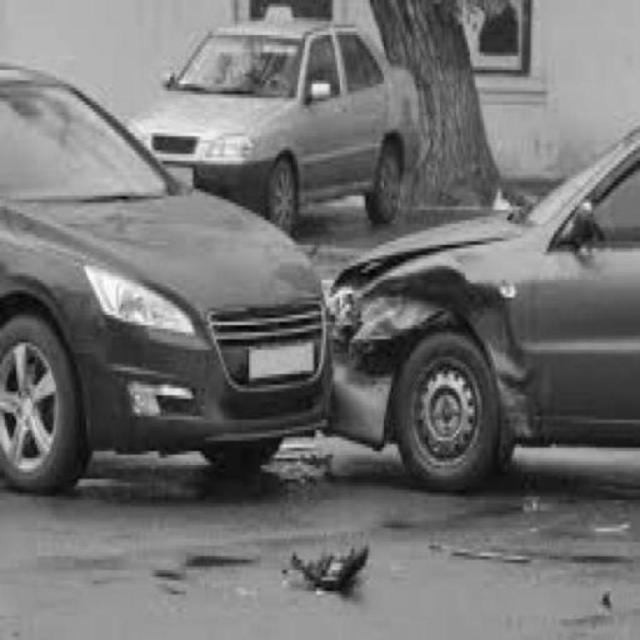accident: (1, 60, 639, 483)
vehicle: (120, 25, 420, 229)
